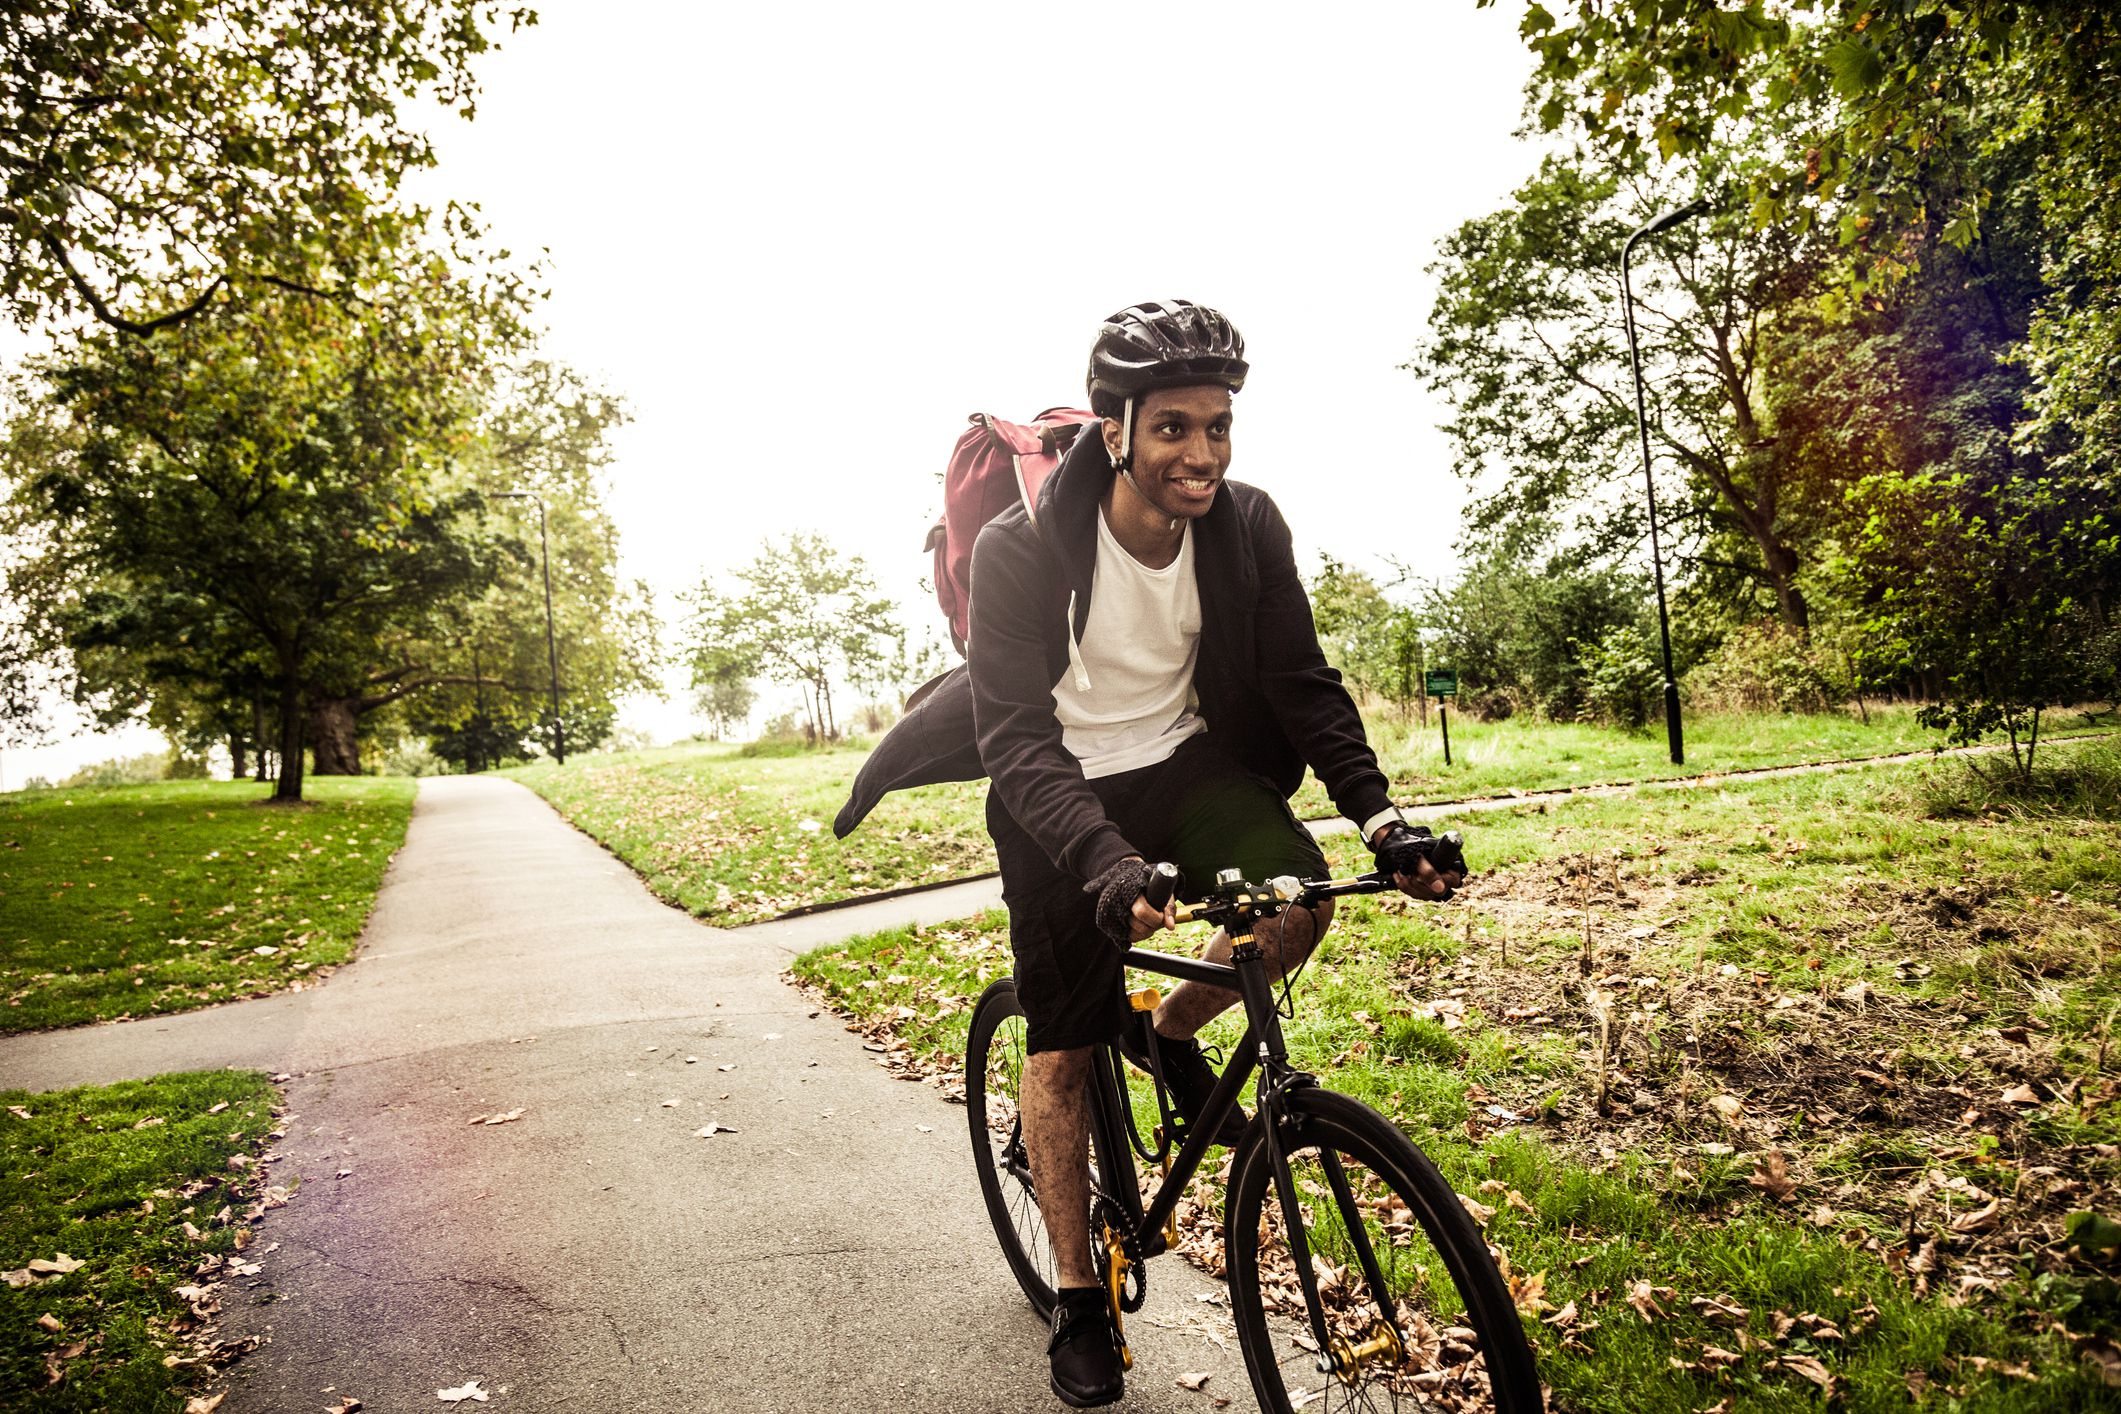with_helmet: (1089, 295, 1255, 421)
